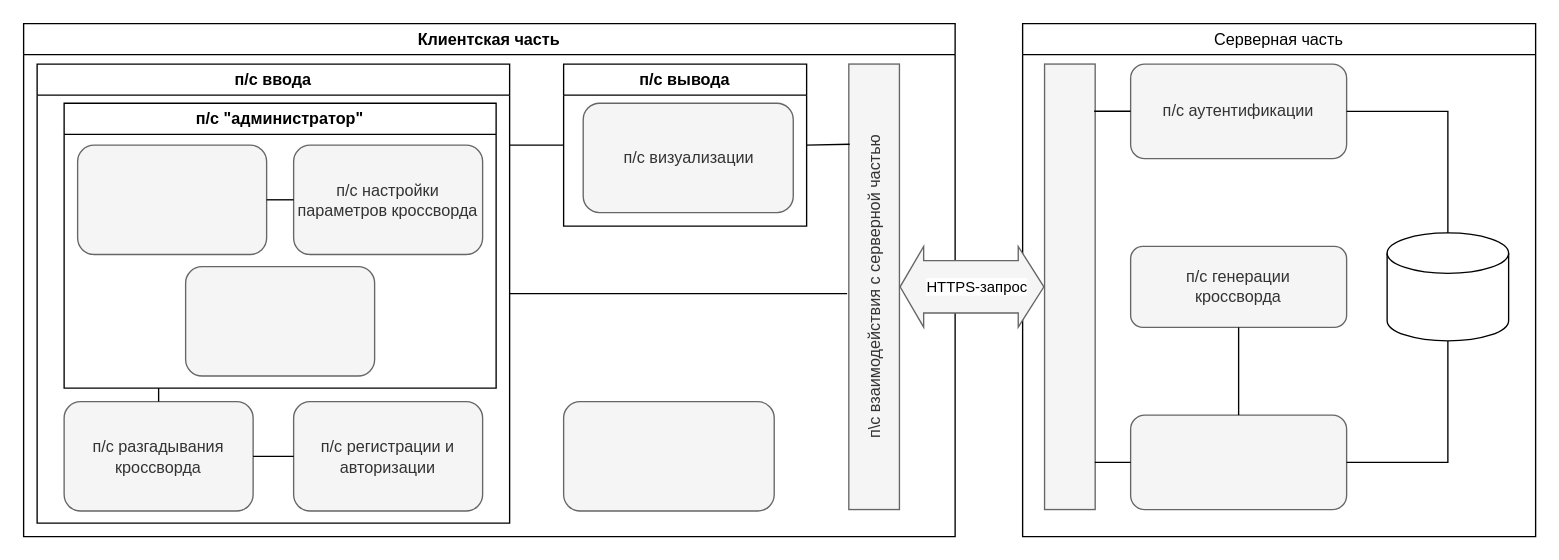
This 1559x560 diagram has some shape labels left out. The shapes that lost their labels are listed below. From the top down, each one's centre as x and y in pixels, then its label:
(171,199): п/с работы с кроссвордом
(1069,286): п/с взаимодействия с клиентской частью
(1447,286): База данных
(279,320): п/с работы со словарем
(668,455): Справочная п/с
(1238,462): п/с взаимодействия с БД
